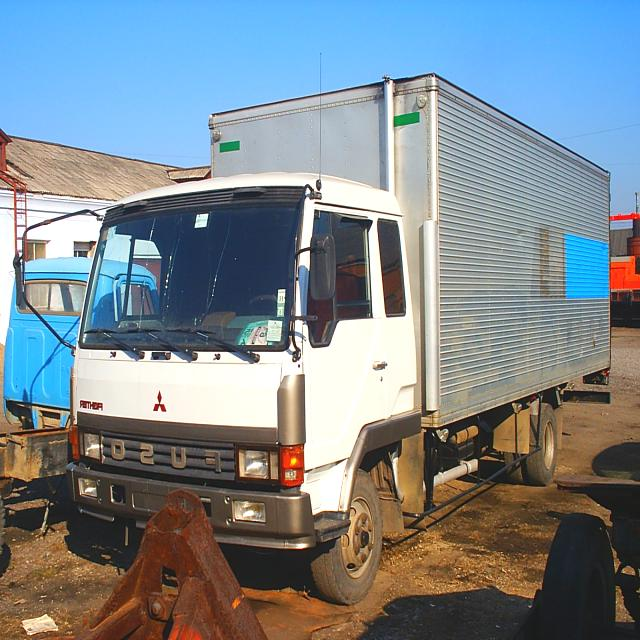truck: (16, 74, 610, 610)
